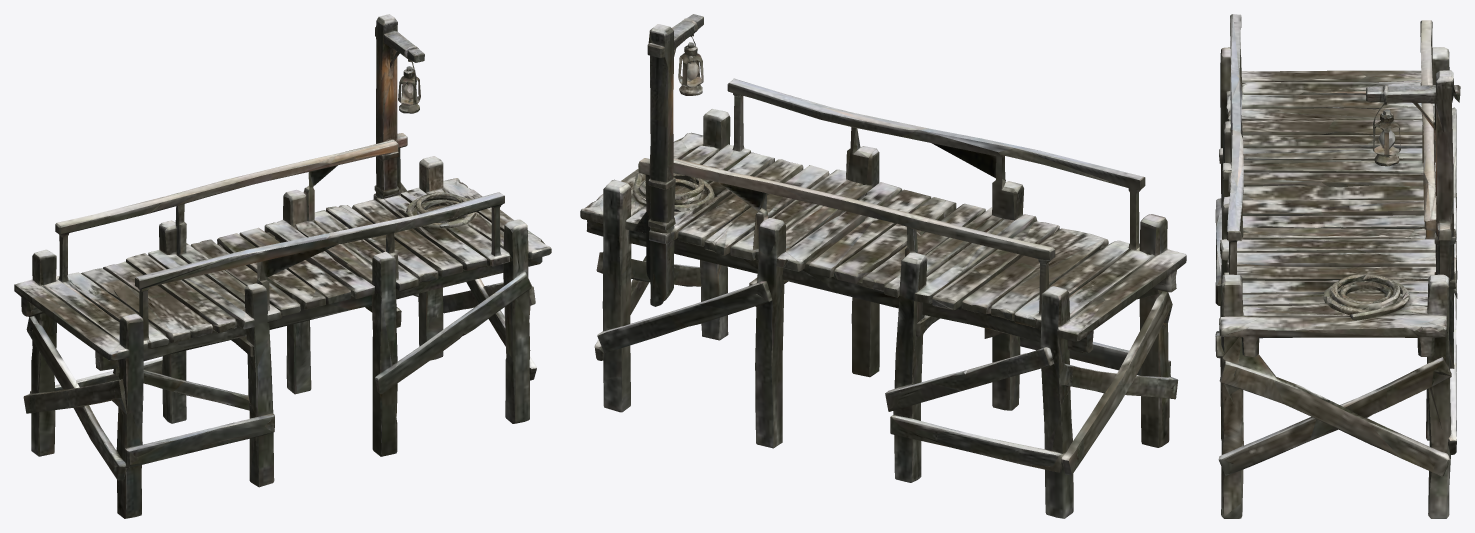
File: dock.glb
The picture shows the model from 3 angles, left to right: view 1: azimuth 30°, elevation 25°; view 2: azimuth 150°, elevation 25°; view 3: azimuth 270°, elevation 25°; orthographic projection. The views are drawn at different scales.
Visible parts, largest first — view 1: Mesh_0; view 2: Mesh_0; view 3: Mesh_0.
Part boxes in pixels (box(x1,y1,x2,y2)): Mesh_0: box(14, 14, 551, 518); Mesh_0: box(580, 14, 1186, 518); Mesh_0: box(1215, 14, 1460, 518).
Size of the model in its own units: 1.9 by 1.43 by 0.7606.
Materials: 1 (1 with a texture image).
